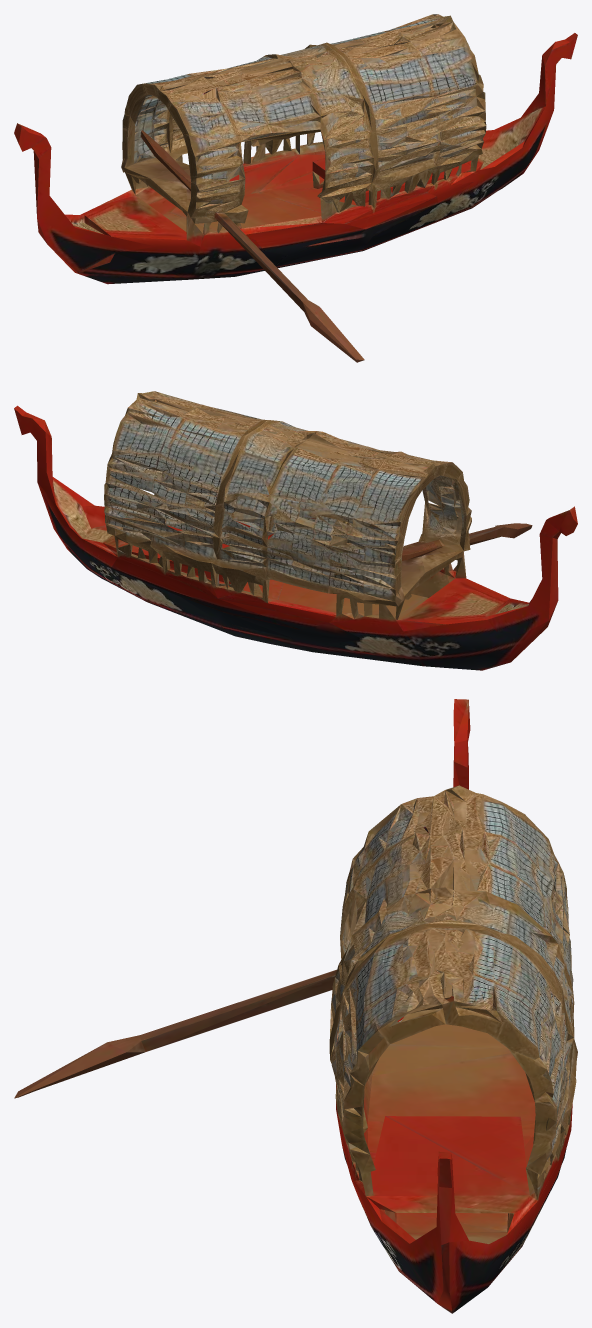
Rendered from boat.glb.
3 views of the same model, one above another, from view 1: azimuth 30°, elevation 25°; view 2: azimuth 150°, elevation 25°; view 3: azimuth 270°, elevation 25° (orthographic). The views are drawn at different scales.
Size of the model in its own units: 1.9 by 0.6548 by 1.12.
Materials: 1 (1 with a texture image).
